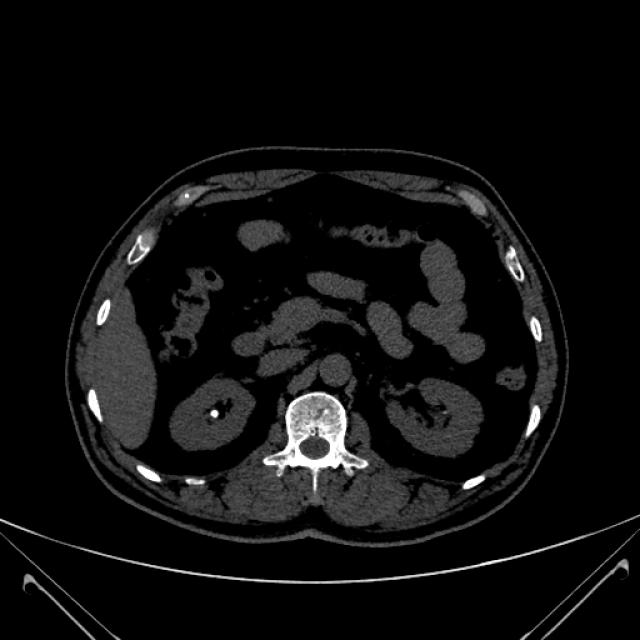kidneystone: (210, 410, 219, 418)
